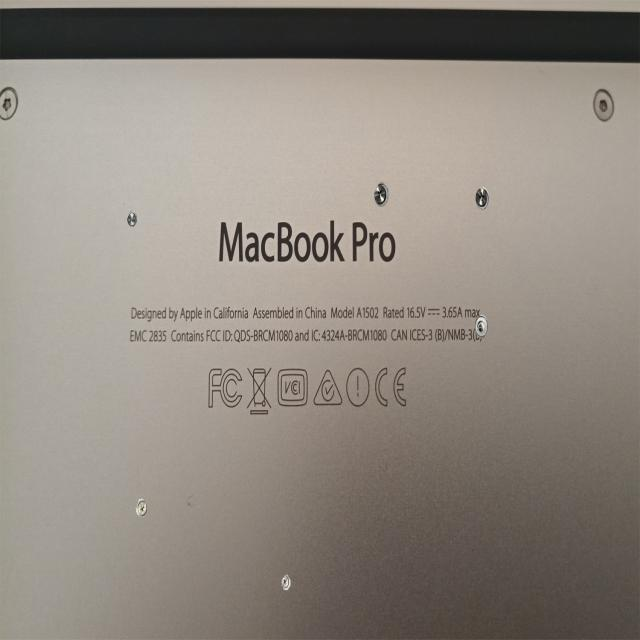lock: (374, 182, 388, 206), (475, 187, 489, 210), (136, 498, 147, 517), (127, 209, 137, 226), (281, 574, 291, 590)
missing_screw: (474, 315, 488, 338)
